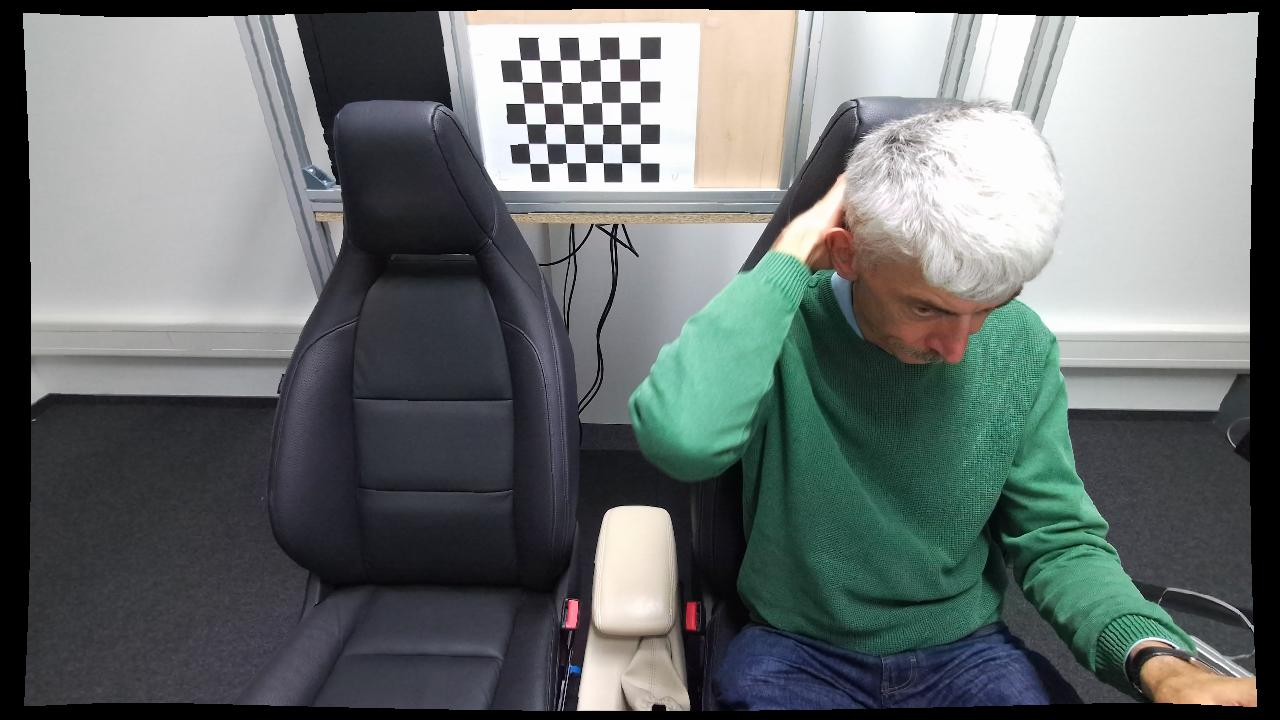Distracted: (625, 89, 1235, 711)
